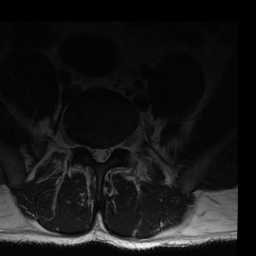CCS_stenosis: (97, 141, 103, 166)
LFS_severe_stenosis: (111, 138, 117, 157)
LLS_normal: (103, 141, 110, 162)
RFS_severe_stenosis: (82, 136, 90, 156)
RLS_normal: (90, 141, 97, 163)
